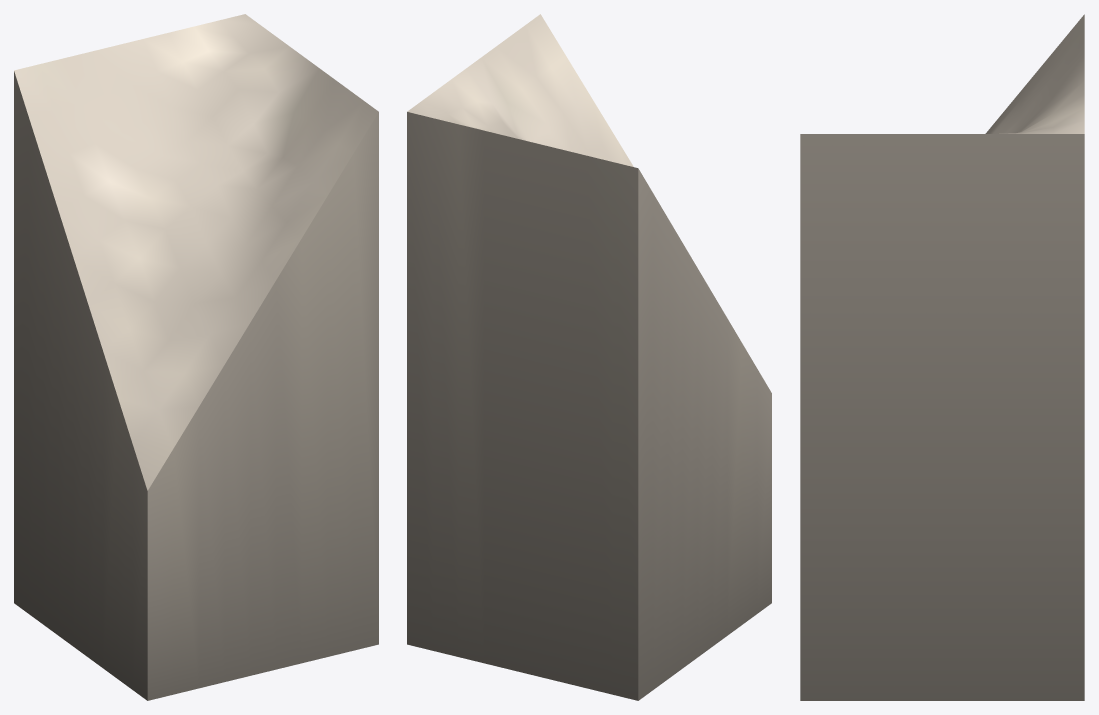
The model's file is SM_VKI_Rock_Cave_CFFF_B.fbx.
3 renders of one model, left to right at view 1: azimuth 30°, elevation 25°; view 2: azimuth 150°, elevation 25°; view 3: azimuth 270°, elevation 25°, orthographic. The views are drawn at different scales.
Parts seen in each view (by area): view 1: SM_VKI_Rock_Cave_CFFF_B.001; view 2: SM_VKI_Rock_Cave_CFFF_B.001; view 3: SM_VKI_Rock_Cave_CFFF_B.001.
Boxes of the visible parts, x1=… form: SM_VKI_Rock_Cave_CFFF_B.001: x1=14, y1=14, x2=378, y2=700; SM_VKI_Rock_Cave_CFFF_B.001: x1=407, y1=14, x2=771, y2=700; SM_VKI_Rock_Cave_CFFF_B.001: x1=800, y1=14, x2=1084, y2=700.
Size of the model in its own units: 1.5 by 3.3 by 1.5.
